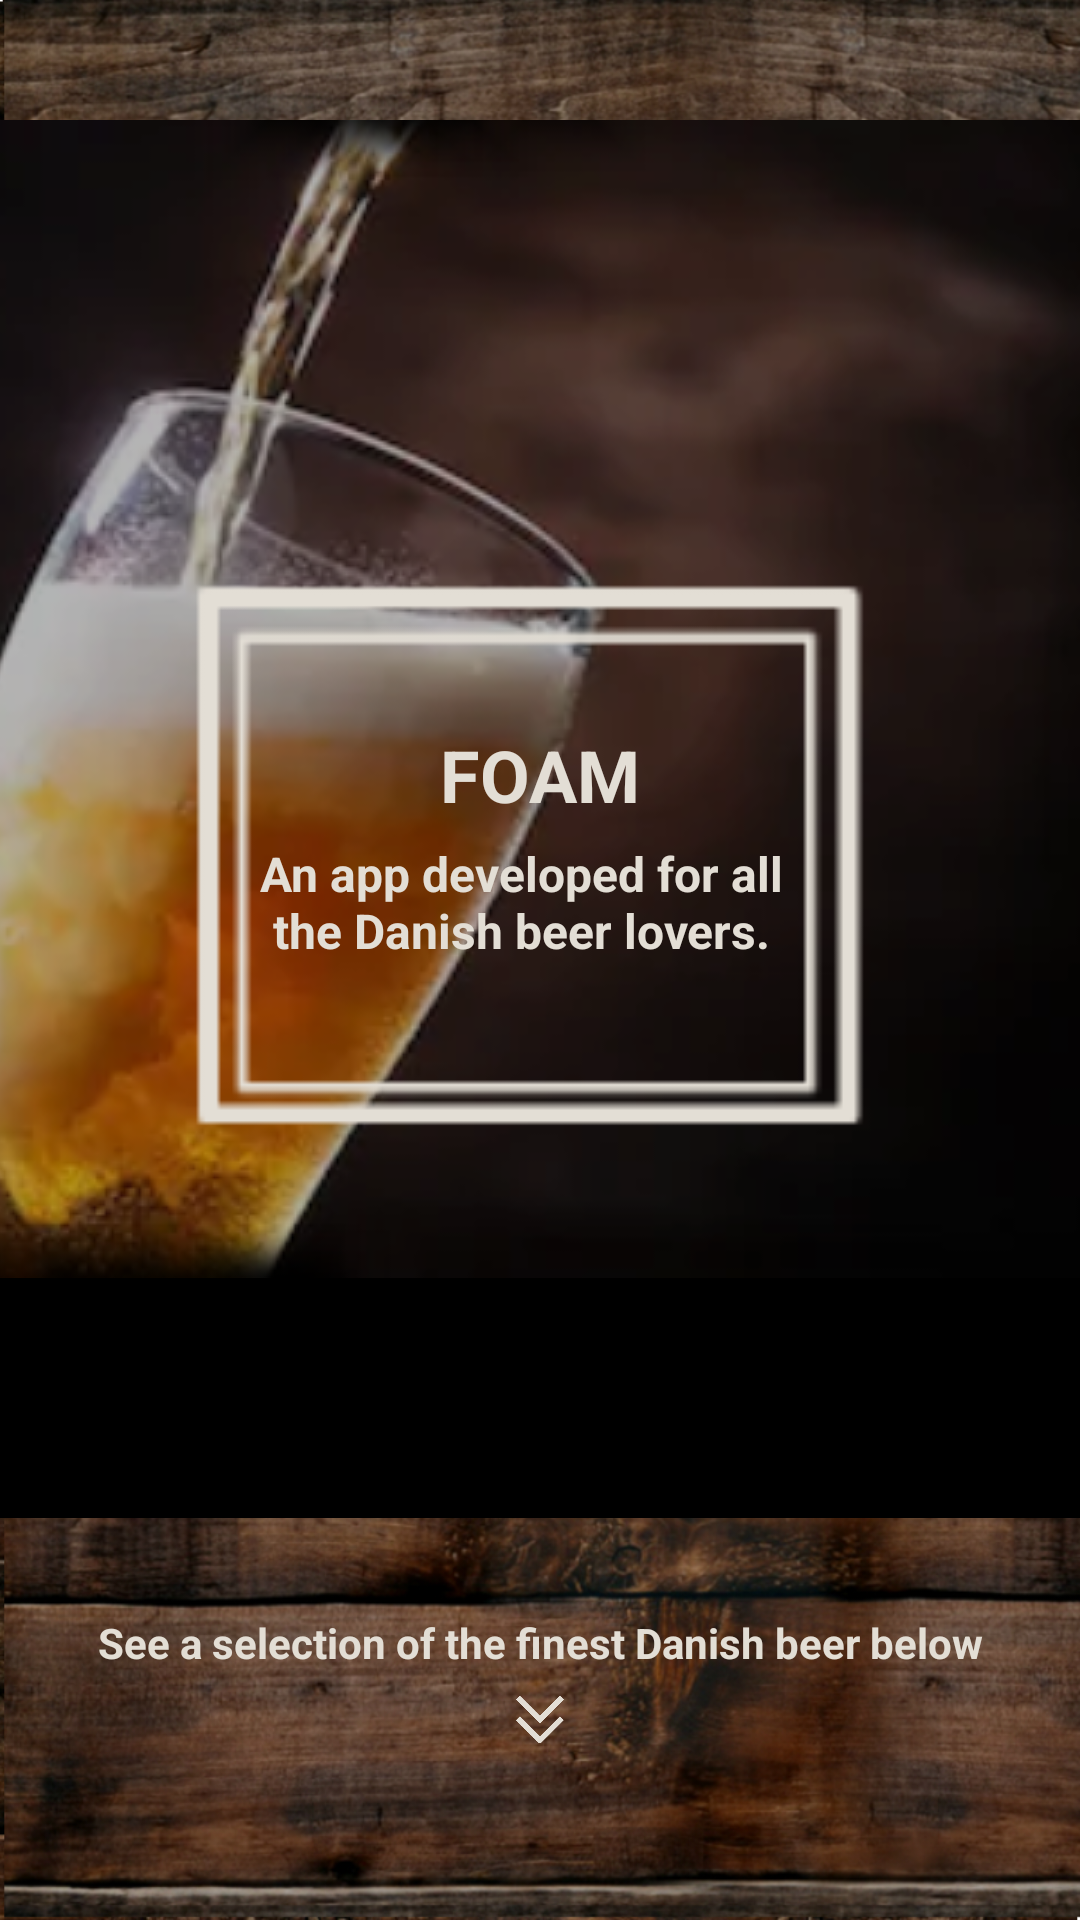

Icons on this 1080w x 1920h Android screen, each with the point to tap as [x,y]:
arrow down: [540,1719]
